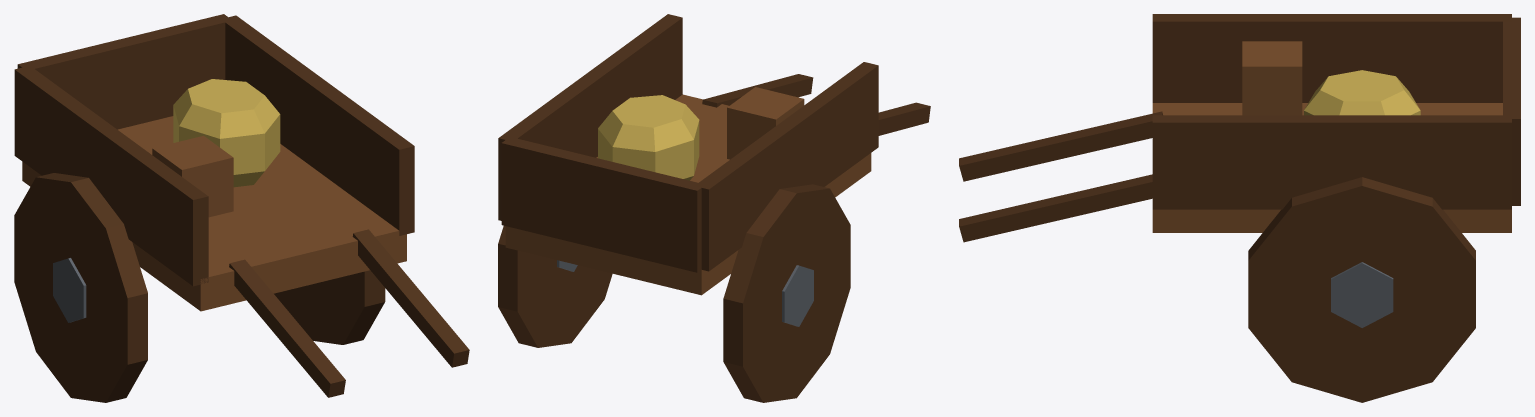
File: cart.glb
3 renders of one model, left to right at view 1: azimuth 30°, elevation 25°; view 2: azimuth 150°, elevation 25°; view 3: azimuth 270°, elevation 25°, orthographic. The views are drawn at different scales.
Visible parts, largest first — view 1: cart; view 2: cart; view 3: cart.
Part boxes in pixels (x1,y1,x2,y2): cart: [14, 14, 469, 402]; cart: [498, 14, 930, 402]; cart: [959, 14, 1520, 402].
Bounding box in the file's own units: 0.51 × 0.5 × 0.9383.
